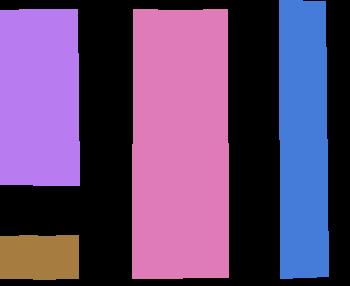parkingspot: (279, 0, 328, 278), (132, 9, 182, 278), (178, 9, 228, 277), (33, 9, 79, 185), (0, 9, 37, 184), (33, 235, 78, 279), (0, 235, 37, 278)
